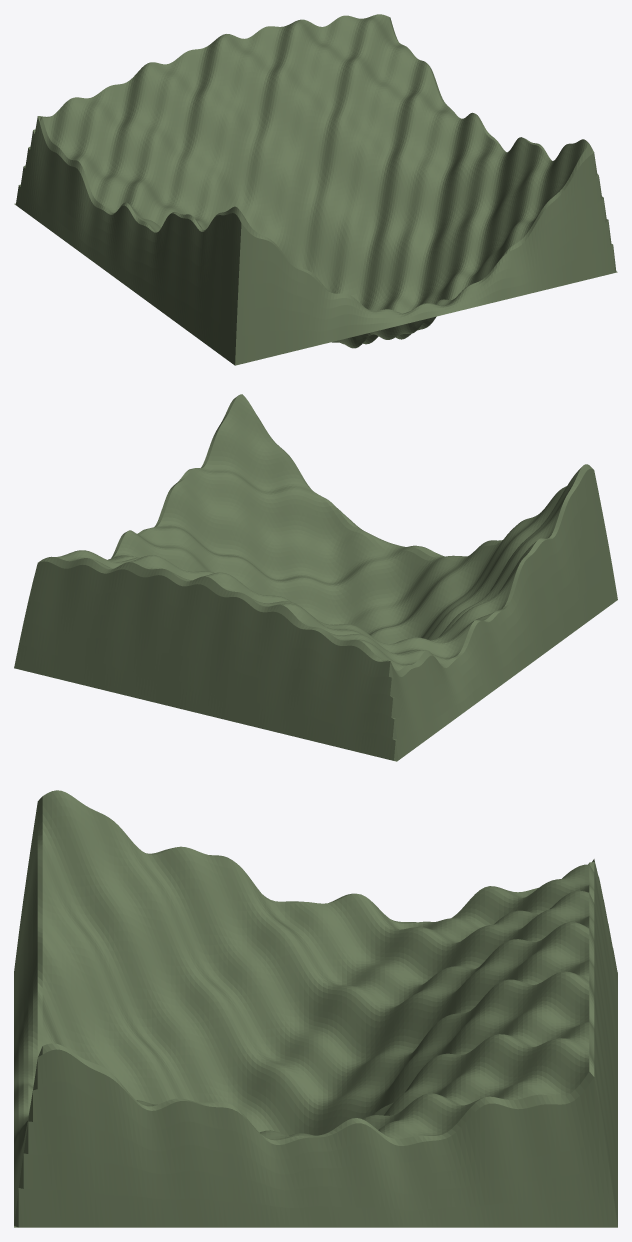
File: pine_mist_basin.obj
3 views of the same model, one above another, from view 1: azimuth 30°, elevation 25°; view 2: azimuth 150°, elevation 25°; view 3: azimuth 270°, elevation 25° (orthographic). The views are drawn at different scales.
Visible parts, largest first — view 1: pine_mist_basin; view 2: pine_mist_basin; view 3: pine_mist_basin.
Boxes of the visible parts, <box> form: pine_mist_basin: <box>14,14,617,365</box>; pine_mist_basin: <box>14,394,617,761</box>; pine_mist_basin: <box>14,790,617,1227</box>.
Size of the model in its own units: 28 by 15.59 by 28.
